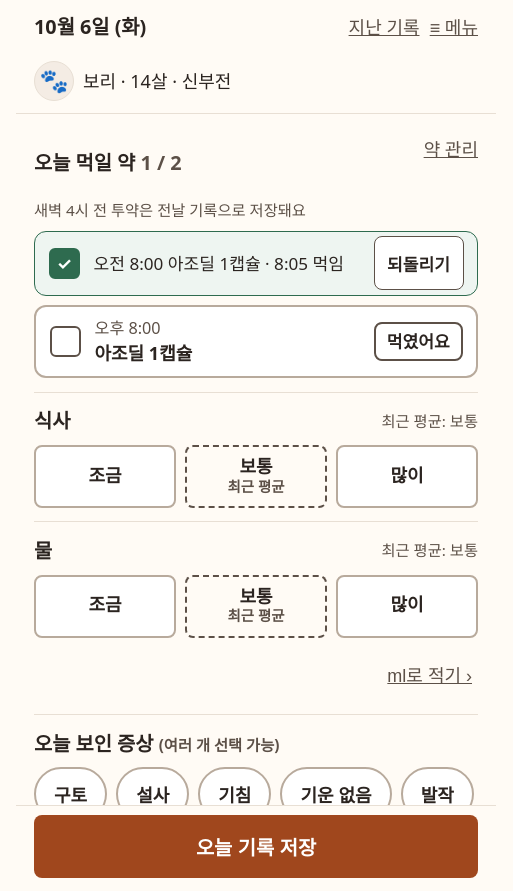
Test: 오늘 화면 — 조회와 제안값 › [저장]을 누르면 제안값을 확정해 계약과 같은 본문으로 PUT 하고, 실선으로 바뀐다
This screenshot has width=513, height=891.
Step 1. Click the button "오늘 기록 저장" → (256, 846), box [34,814,478,878]
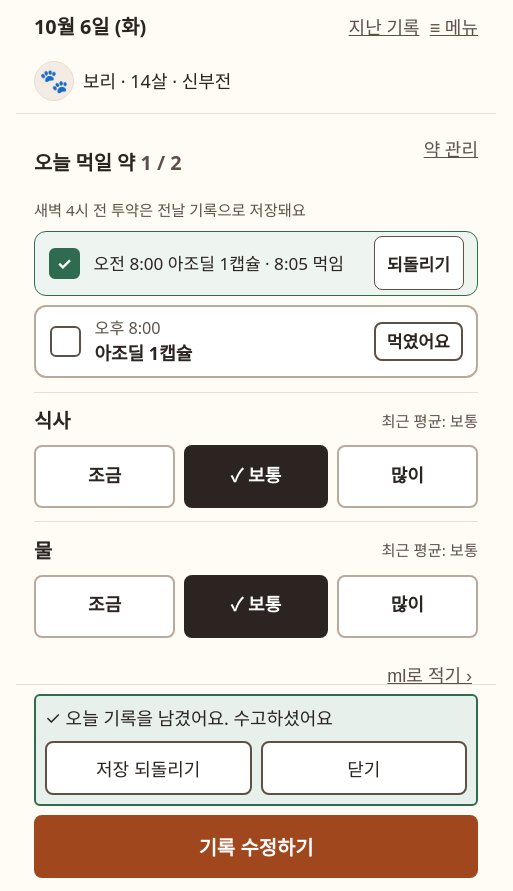
Expected: the text "✓ 오늘 기록을 남겼어요. 수고하셨어요" is shown, [45,706,333,730]
Expected: the button "기록 수정하기" is shown, [34,814,478,878]
